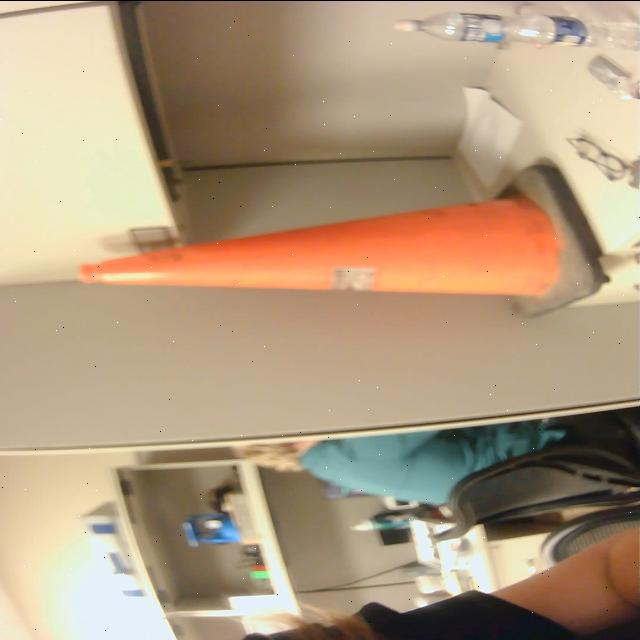traffic cone: (71, 158, 621, 324)
